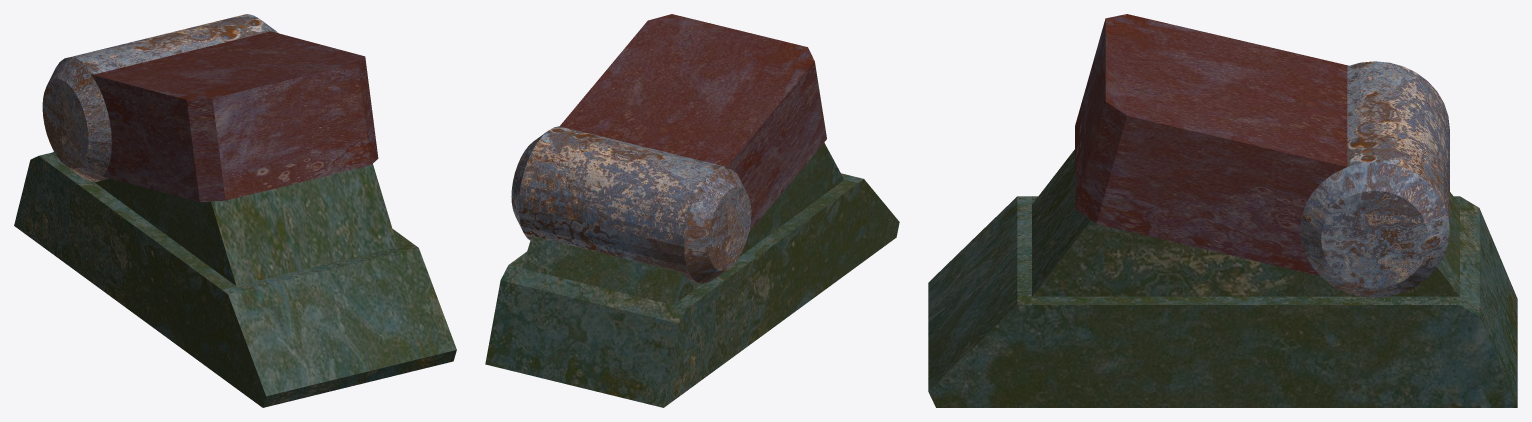
Rendered from pie_izq.obj.
The picture shows the model from 3 angles, left to right: view 1: azimuth 30°, elevation 25°; view 2: azimuth 150°, elevation 25°; view 3: azimuth 270°, elevation 25°; orthographic projection. The views are drawn at different scales.
Parts seen in each view (by area): view 1: pie_izq; view 2: pie_izq; view 3: pie_izq.
Part boxes in pixels (bbox=[...]): pie_izq: bbox=[14, 14, 456, 407]; pie_izq: bbox=[485, 14, 899, 407]; pie_izq: bbox=[928, 14, 1517, 407].
Bounding box in the file's own units: 2.6 × 2.97 × 5.41.
Materials: 3 (3 with a texture image).
